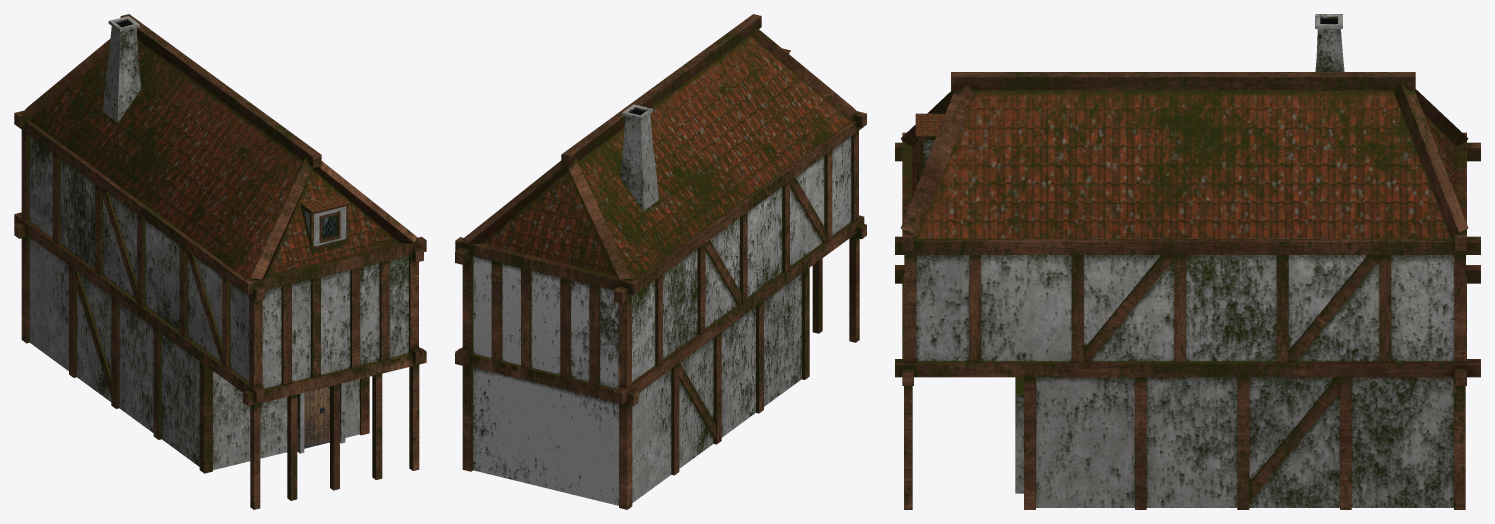
Rendered from medieval_house_2.glb.
3 views of the same model, side by side, from view 1: azimuth 30°, elevation 25°; view 2: azimuth 150°, elevation 25°; view 3: azimuth 270°, elevation 25° (orthographic). The views are drawn at different scales.
Visible parts, largest first — view 1: House2; view 2: House2; view 3: House2.
Boxes of the visible parts, <box> form: House2: <box>14,14,426,509</box>; House2: <box>455,14,866,509</box>; House2: <box>895,14,1480,509</box>.
Bounding box in the file's own units: 4.2 × 7.8 × 9.87.
1 material, 1 textured.
